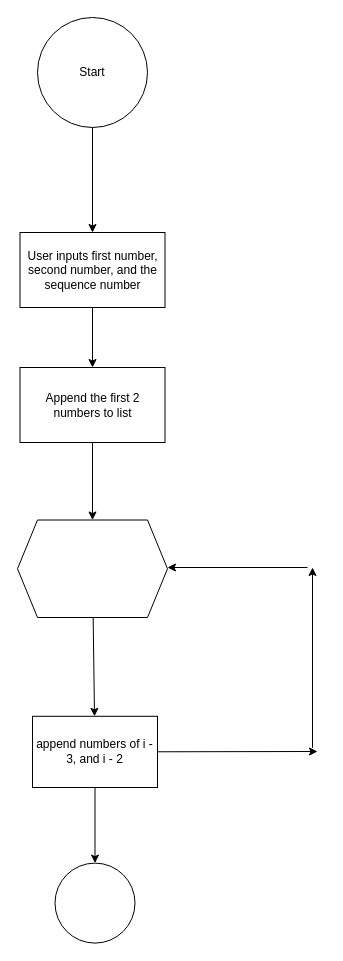
The diagram is 343 pixels wide and 961 high, and some of its shapes have lost their labels. Each missing label, with the centre of its shape:
"End" goes at point (94, 902).
"For loop to append sum of previous numbers" goes at point (92, 568).
